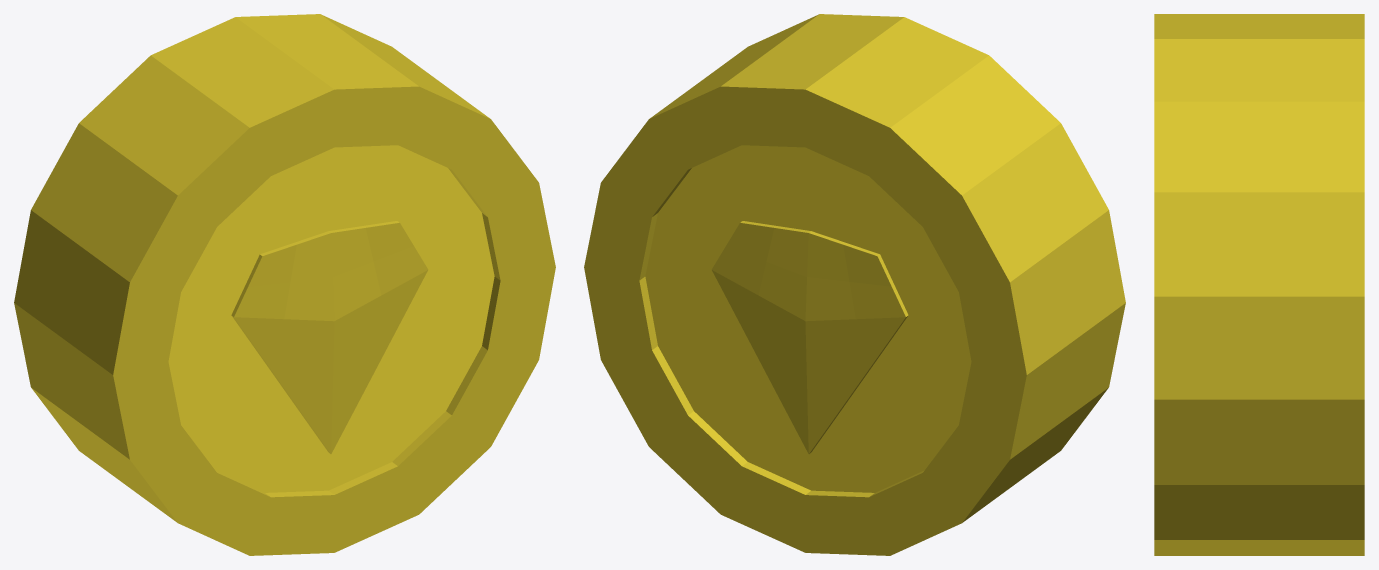
File: GoldCoin.fbx
3 renders of one model, left to right at view 1: azimuth 30°, elevation 25°; view 2: azimuth 150°, elevation 25°; view 3: azimuth 270°, elevation 25°, orthographic. The views are drawn at different scales.
Visible parts, largest first — view 1: Coin.Gold; view 2: Coin.Gold; view 3: Coin.Gold.
Boxes of the visible parts, box(x1,y1,x2,y2) form: Coin.Gold: box(14, 14, 555, 555); Coin.Gold: box(584, 14, 1125, 555); Coin.Gold: box(1154, 14, 1364, 555).
Size of the model in its own units: 10.59 by 10.59 by 4.1.
